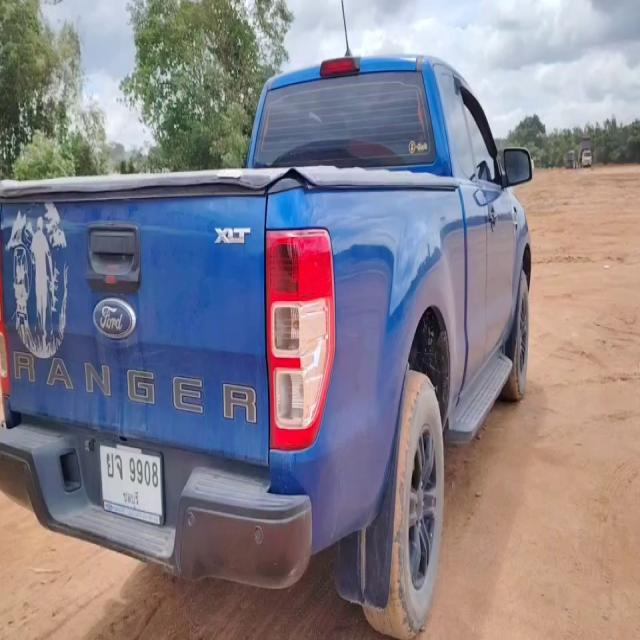Digit: (129, 454, 158, 489)
Licenseplate: (99, 440, 164, 527)
Provincename: (122, 488, 140, 509)
Thaichar: (106, 452, 123, 478)
